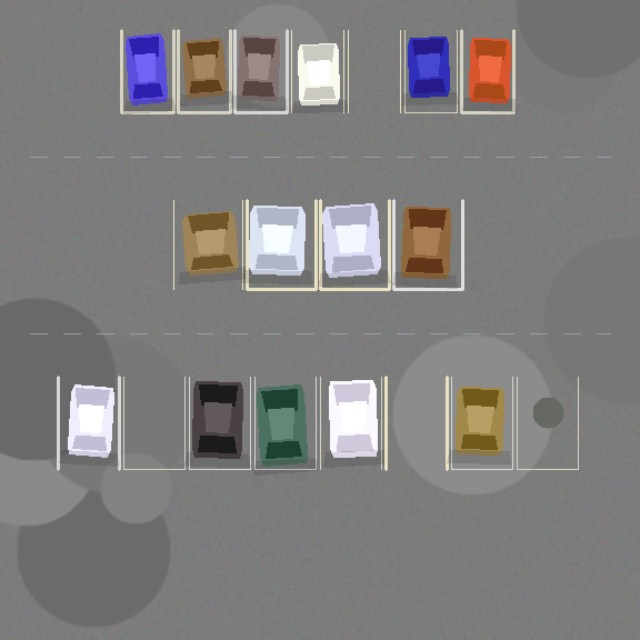space-empty: (123, 377, 184, 469), (386, 377, 447, 469), (517, 377, 578, 469), (348, 30, 400, 112)
space-occupied: (173, 200, 242, 289), (247, 200, 316, 289), (320, 200, 389, 289), (393, 200, 462, 289), (254, 377, 316, 469), (58, 377, 119, 469), (189, 377, 250, 469), (320, 377, 381, 469), (451, 377, 512, 469), (234, 30, 287, 112), (404, 30, 457, 112), (121, 30, 173, 112), (178, 30, 230, 112), (291, 30, 343, 112), (461, 30, 513, 112)
